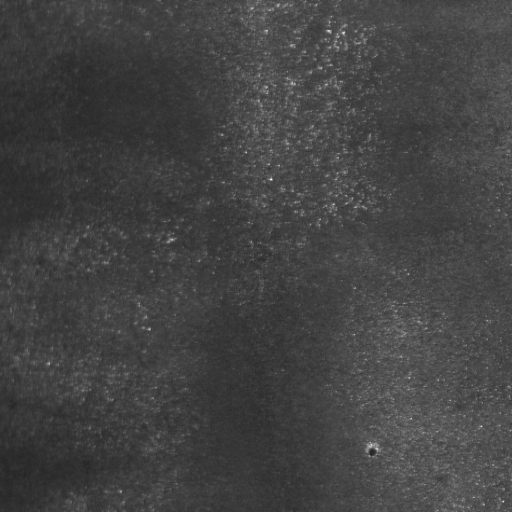aokeng: (364, 440, 384, 462)
